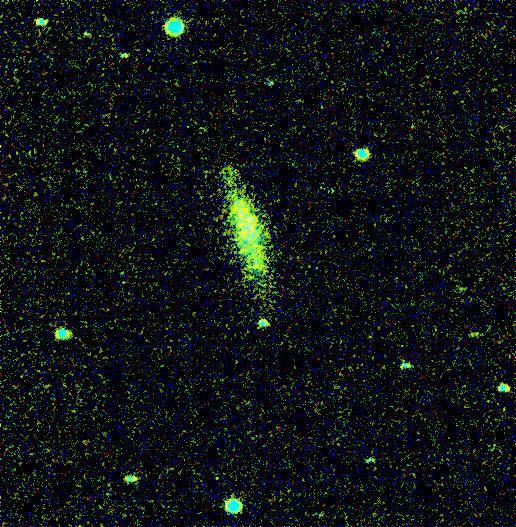star: (229, 187, 259, 217)
